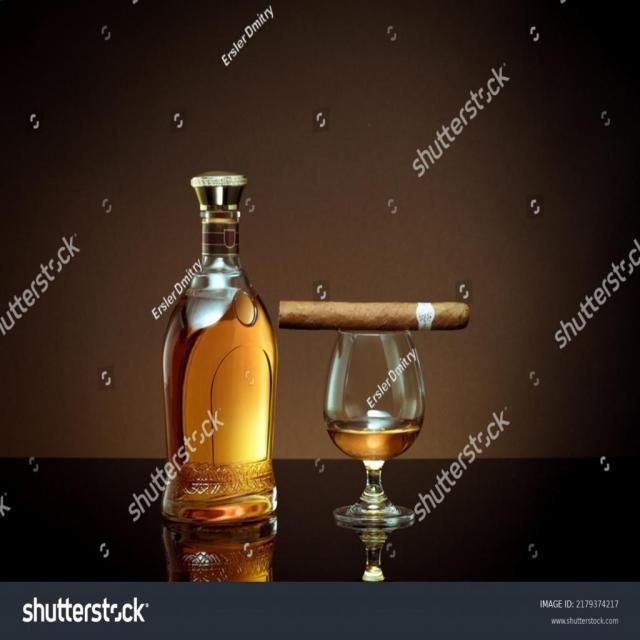smoking: (161, 172, 278, 581), (322, 331, 425, 581), (279, 300, 470, 332)
